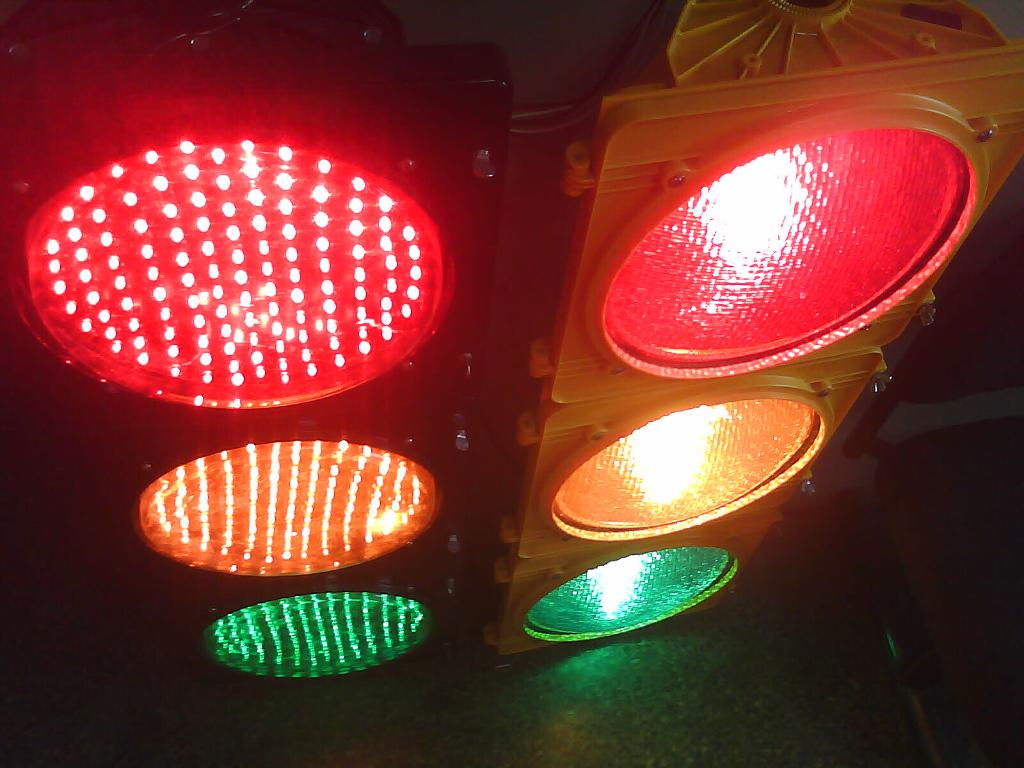green_light: (202, 586, 441, 685), (530, 545, 746, 647)
red_light: (24, 136, 461, 415), (599, 101, 990, 386)
yellow_light: (127, 441, 444, 574), (548, 400, 825, 538)
